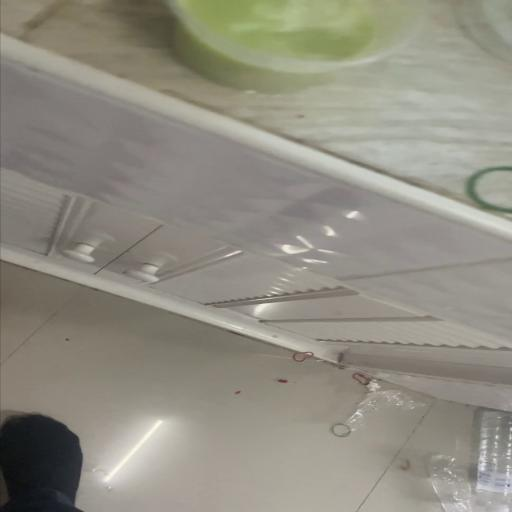street_golden_defect: (2, 0, 510, 254)
